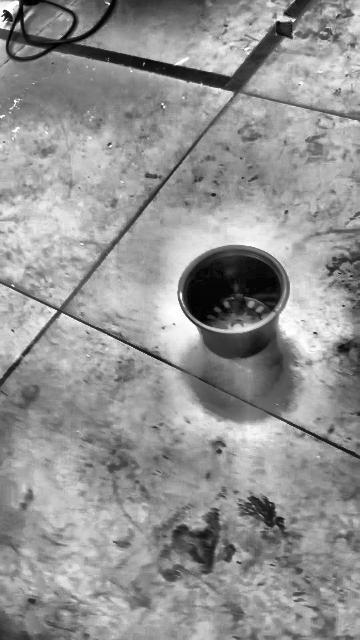pot: (177, 245, 289, 357)
